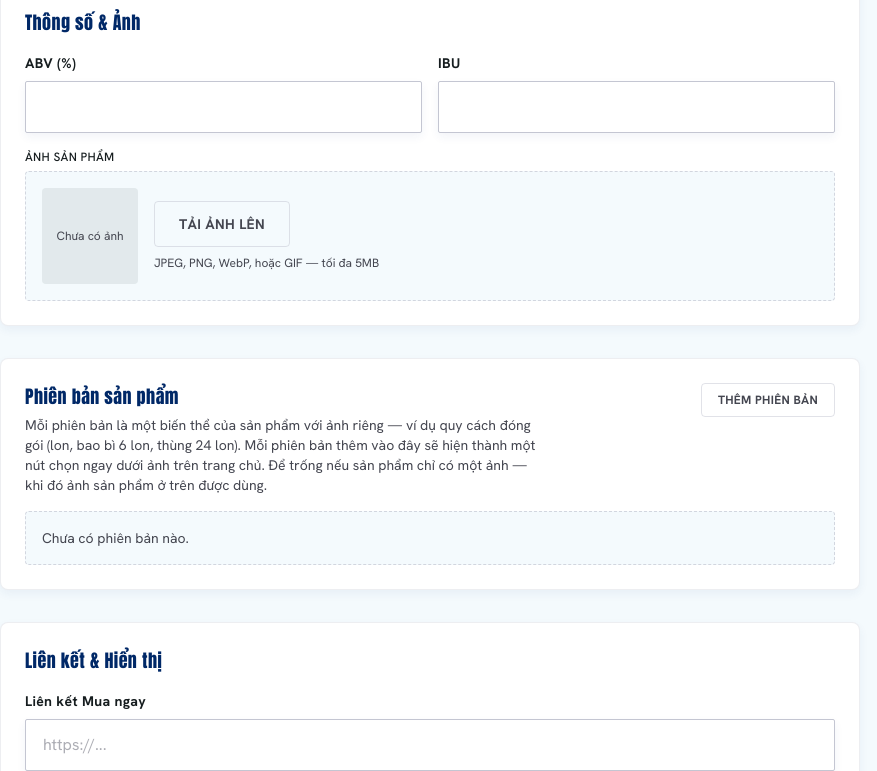
Test: BeerForm product variants › adds a variant row with one short-name input per language
(page scrolled)
Click the button "Thêm phiên bản": (768, 400) x1=701 y1=383 x2=835 y2=417
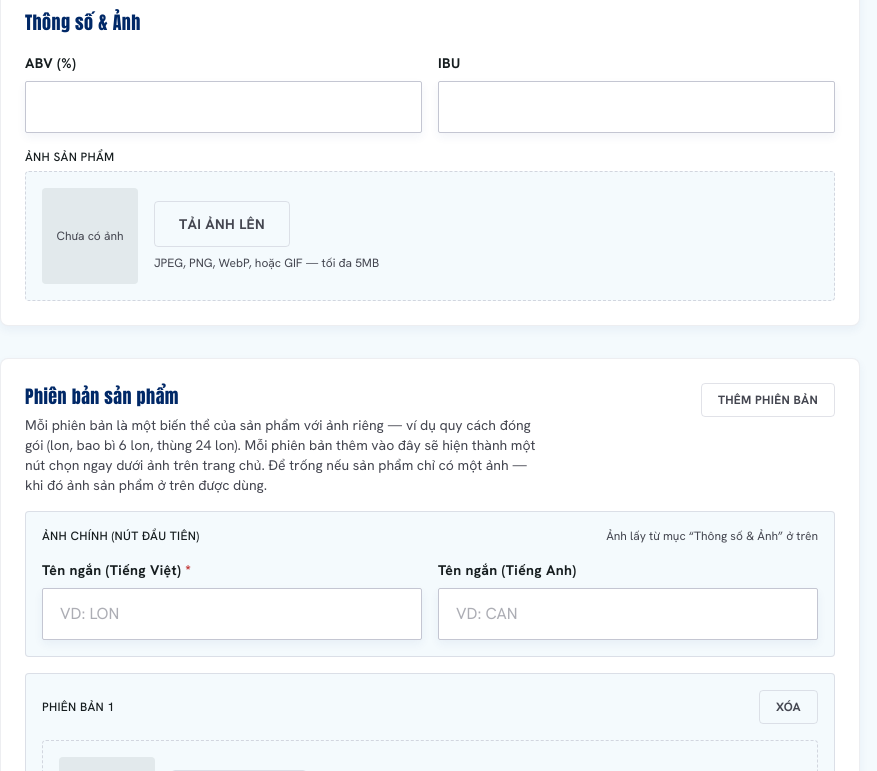
Now the text "Chưa có phiên bản nào" is gone
